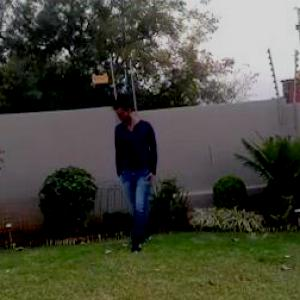follow: (113, 95, 164, 254)
